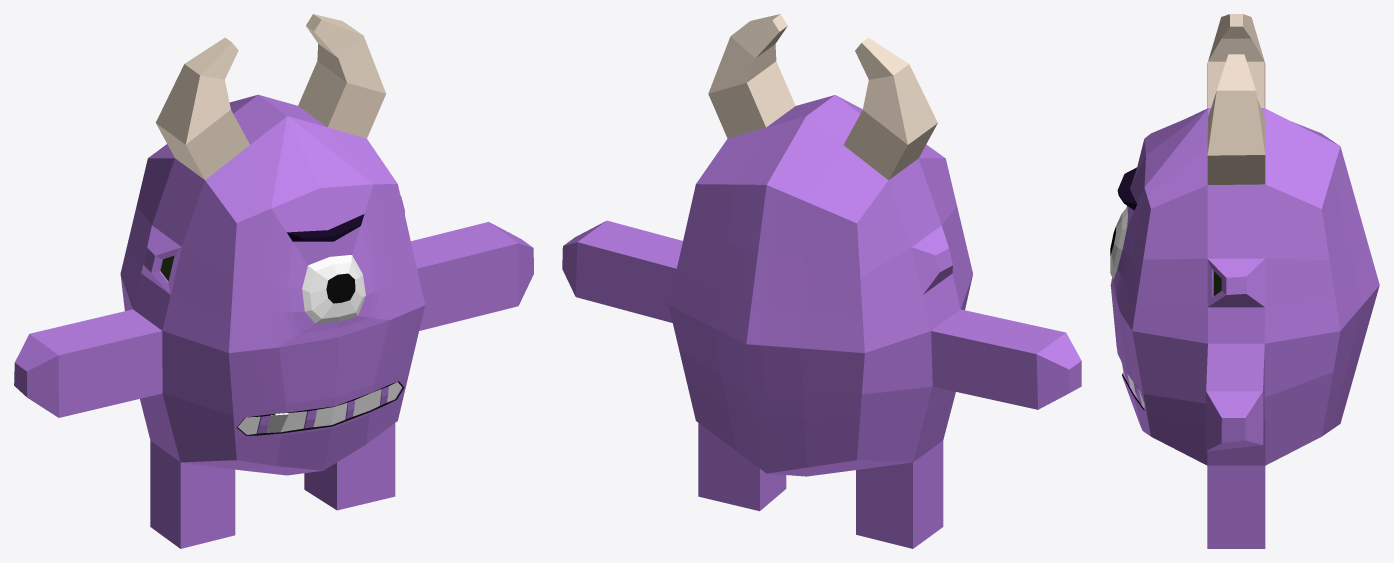
The model's file is character_2.fbx.
3 views of the same model, side by side, from view 1: azimuth 30°, elevation 25°; view 2: azimuth 150°, elevation 25°; view 3: azimuth 270°, elevation 25° (orthographic). The views are drawn at different scales.
Parts seen in each view (by area): view 1: body.001; view 2: body.001; view 3: body.001.
Part boxes in pixels (box(x1,y1,x2,y2)): body.001: box(14, 14, 533, 548); body.001: box(562, 14, 1081, 548); body.001: box(1110, 14, 1379, 548).
Size of the model in its own units: 280 by 255 by 134.
Materials: 1 (1 with a texture image).
